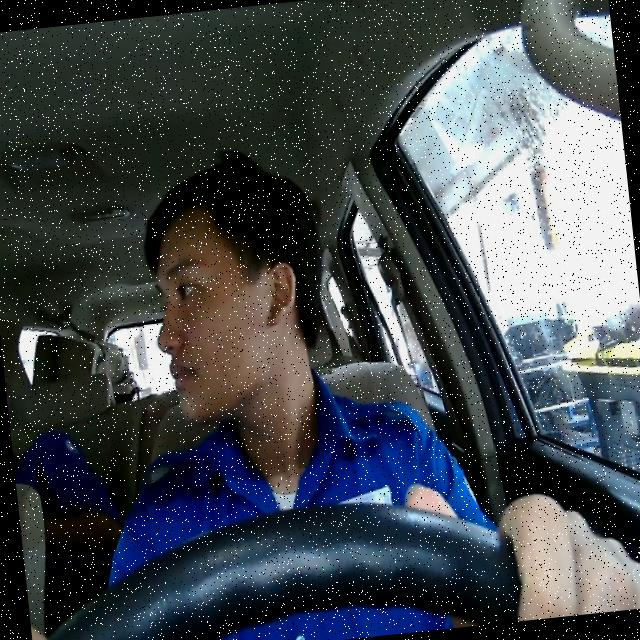seeing_left: (142, 189, 311, 430)
